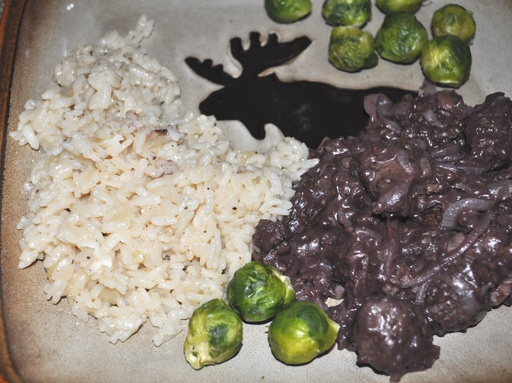background: (7, 8, 409, 228), (123, 0, 380, 53), (39, 0, 249, 14)
